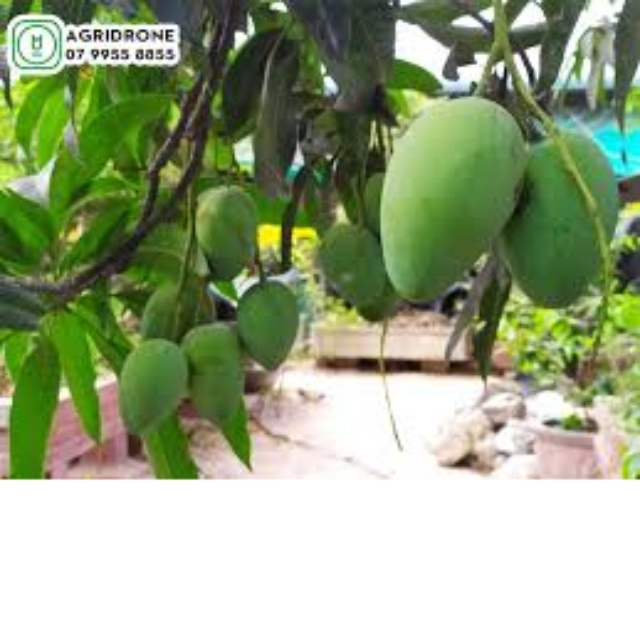thanh_long: (375, 75, 529, 308), (176, 314, 248, 429), (236, 275, 313, 378), (115, 334, 188, 442), (194, 182, 262, 283)
